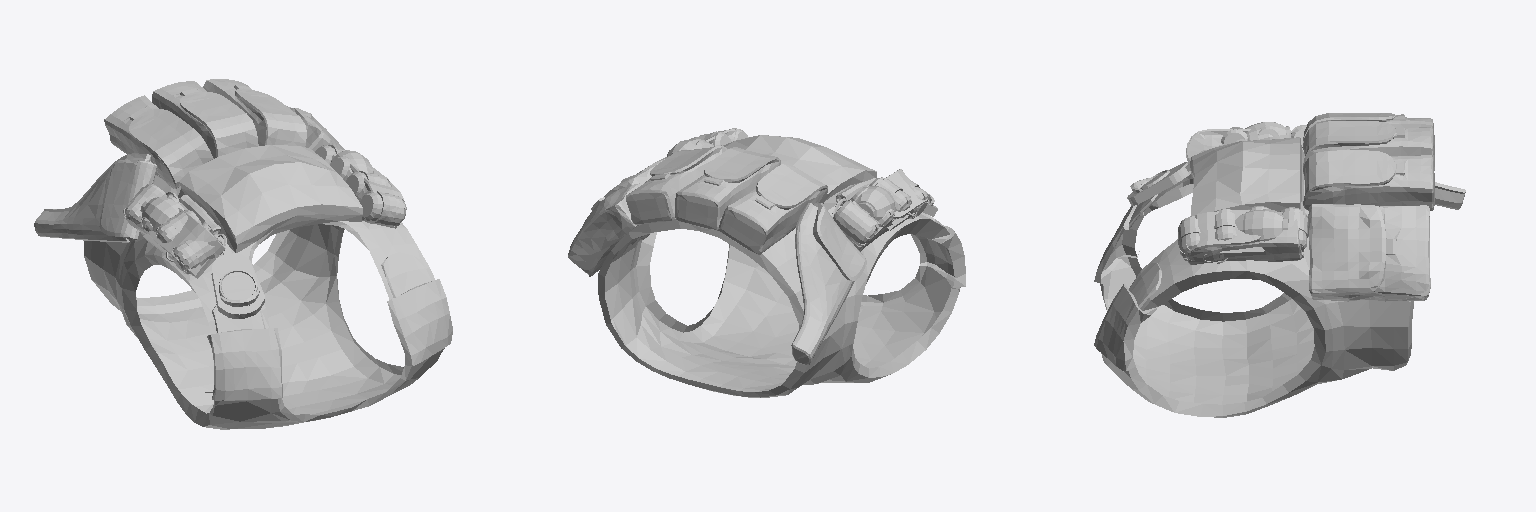
Rendered from Kevlar.obj.
The picture shows the model from 3 angles: view 1: azimuth 30°, elevation 25°; view 2: azimuth 150°, elevation 25°; view 3: azimuth 270°, elevation 25°; orthographic projection.
Visible parts, largest first — view 1: Vest, Gear, GearCells, GearMags, GearGrenades; view 2: Vest, Gear, GearCells, GearGrenades, GearMags; view 3: Vest, Gear, GearMags, GearCells, GearGrenades.
Boxes of the visible parts, <box> form: Vest: <box>84,145,452,429</box>; Gear: <box>34,79,344,318</box>; GearCells: <box>123,145,406,274</box>; GearMags: <box>133,149,404,278</box>; GearGrenades: <box>140,150,373,261</box>; Vest: <box>598,135,965,397</box>; Gear: <box>568,145,937,364</box>; GearCells: <box>691,128,928,246</box>; GearGrenades: <box>667,139,916,230</box>; GearMags: <box>705,129,927,251</box>; Vest: <box>1094,137,1413,417</box>; Gear: <box>1127,113,1465,301</box>; GearMags: <box>1186,129,1301,264</box>; GearCells: <box>1178,125,1307,260</box>; GearGrenades: <box>1213,122,1290,263</box>.
Bounding box in the file's own units: 30.54 × 26.94 × 37.19.